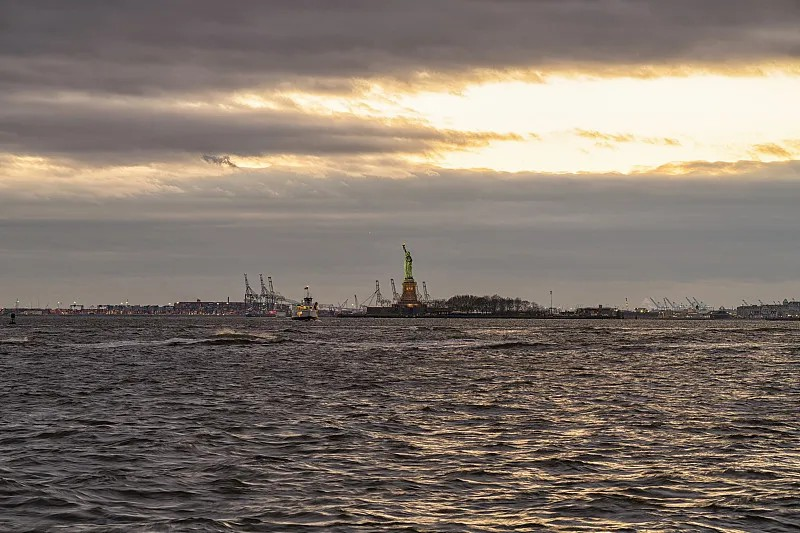SL: (399, 244, 417, 305)
